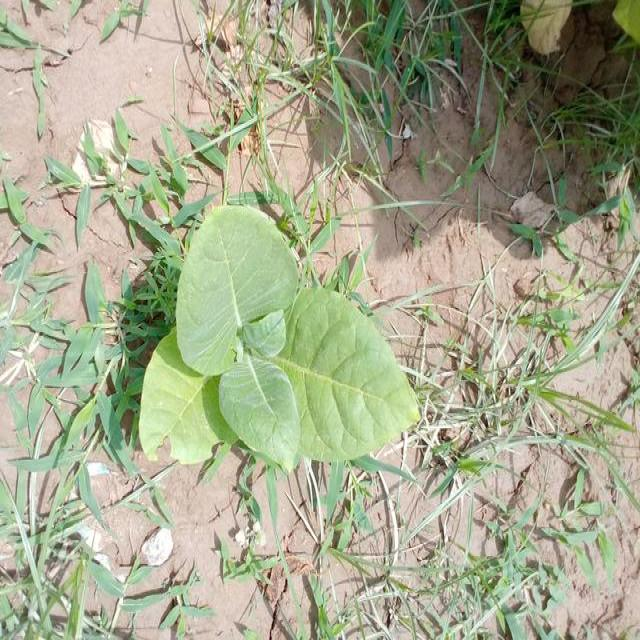crop: (156, 228, 418, 476)
